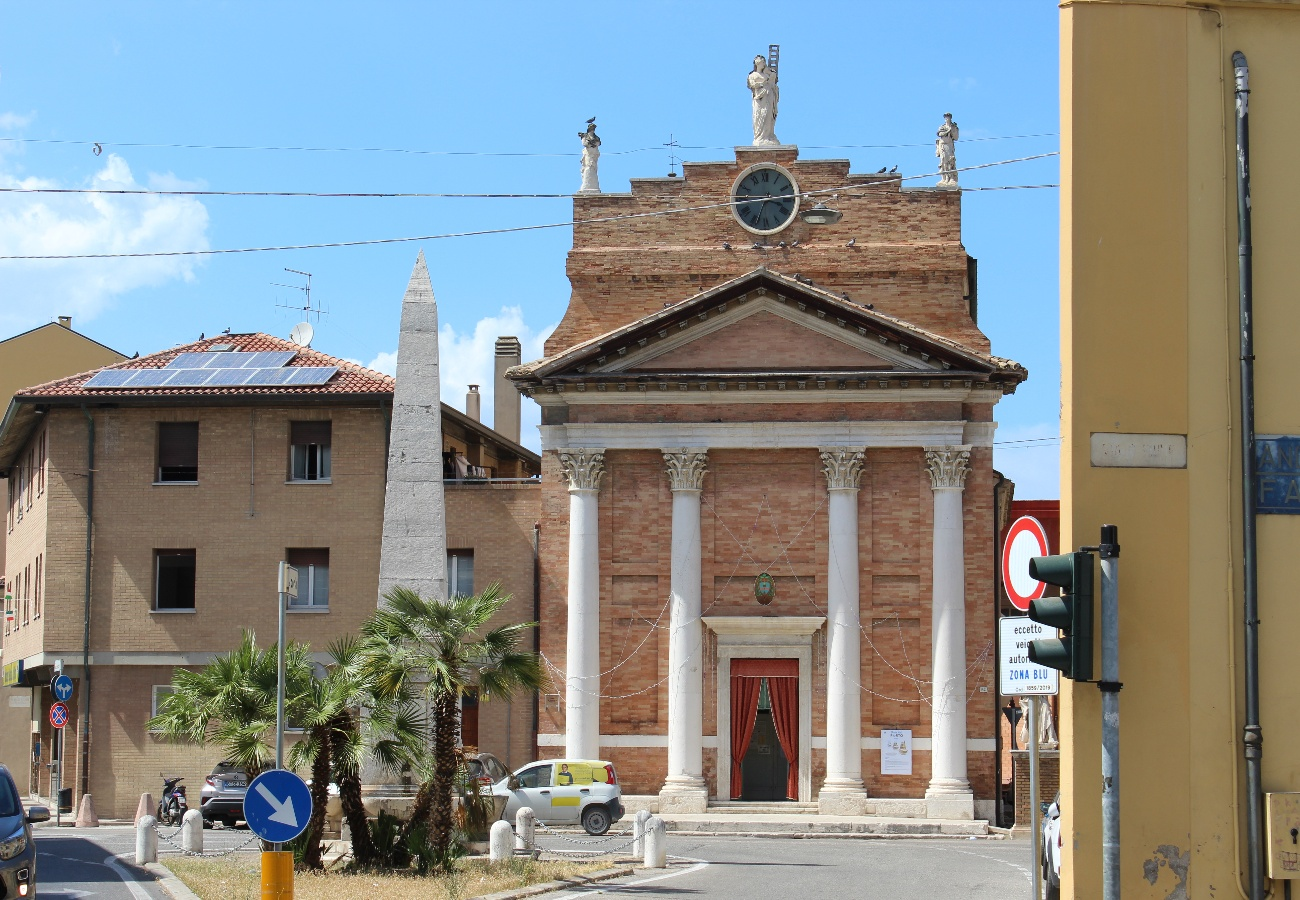Parrocchia Santa Maria: (509, 40, 1030, 807)
